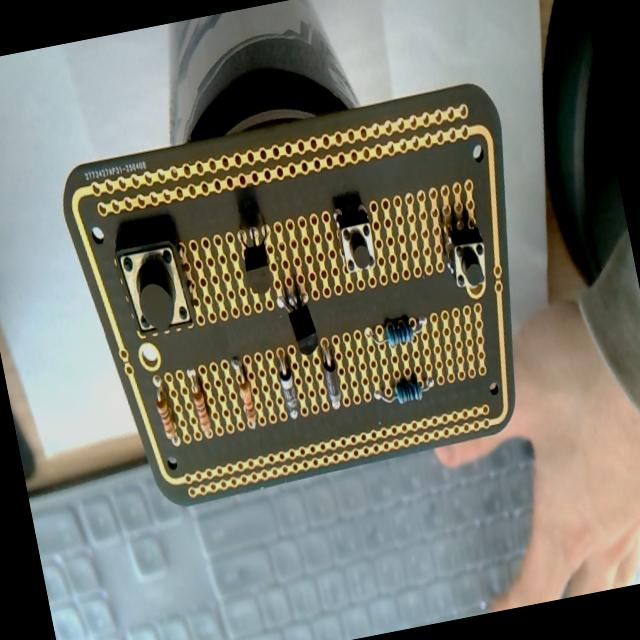diode: (266, 342, 310, 433), (313, 336, 350, 422)
resistor: (183, 361, 225, 458), (147, 359, 186, 462), (366, 369, 444, 419), (226, 348, 264, 442), (360, 312, 432, 356)
switch: (112, 222, 198, 341), (430, 218, 497, 300), (325, 205, 384, 281)
transistor: (227, 210, 284, 310), (276, 287, 324, 364)
